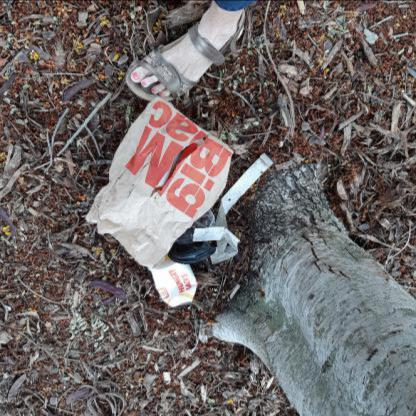Cup: (148, 254, 198, 307)
Lid: (176, 210, 215, 244), (168, 241, 217, 264)
Other litter: (85, 96, 234, 268)
Paper: (192, 152, 274, 264)
